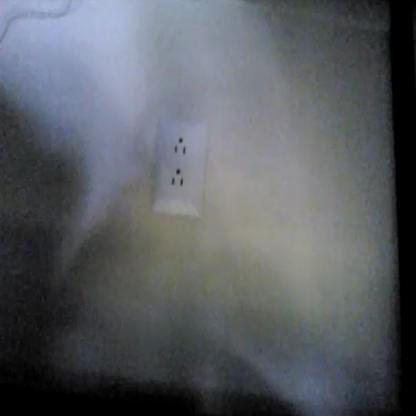OUTLET: (152, 113, 210, 220)
